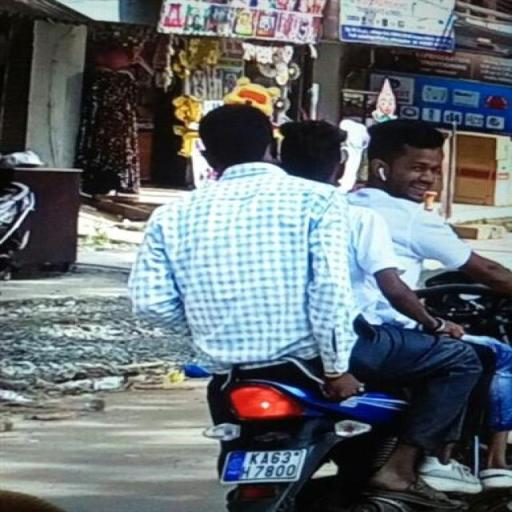tripple riding: (123, 100, 511, 376)
